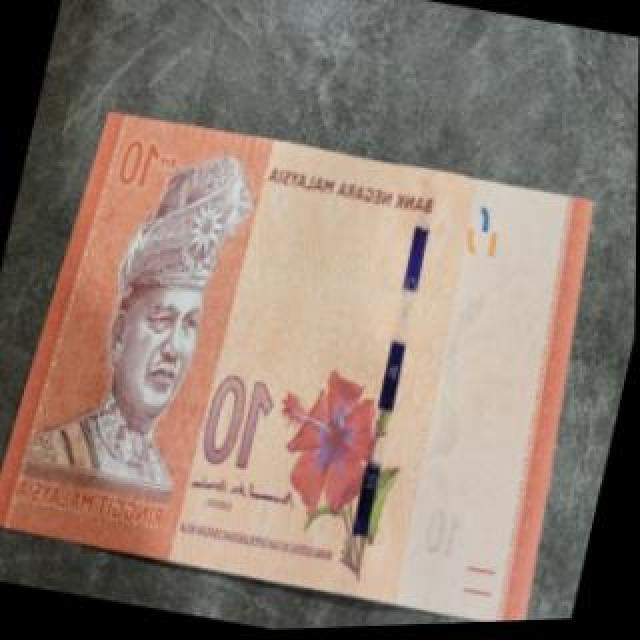10 Ringgit: (0, 94, 607, 640)
